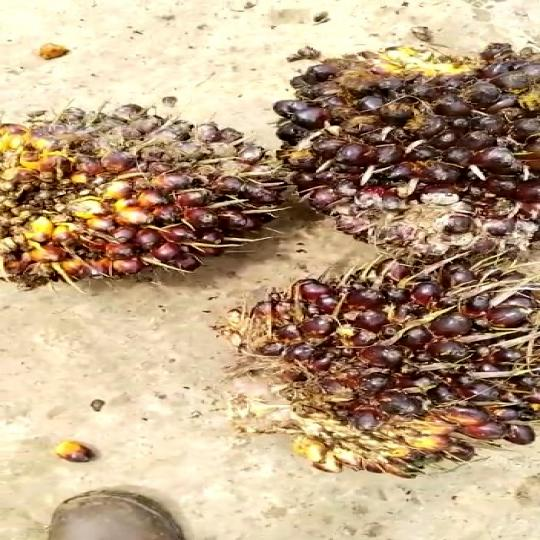kurang masak: (217, 257, 540, 478), (258, 42, 540, 257), (0, 106, 282, 267)
